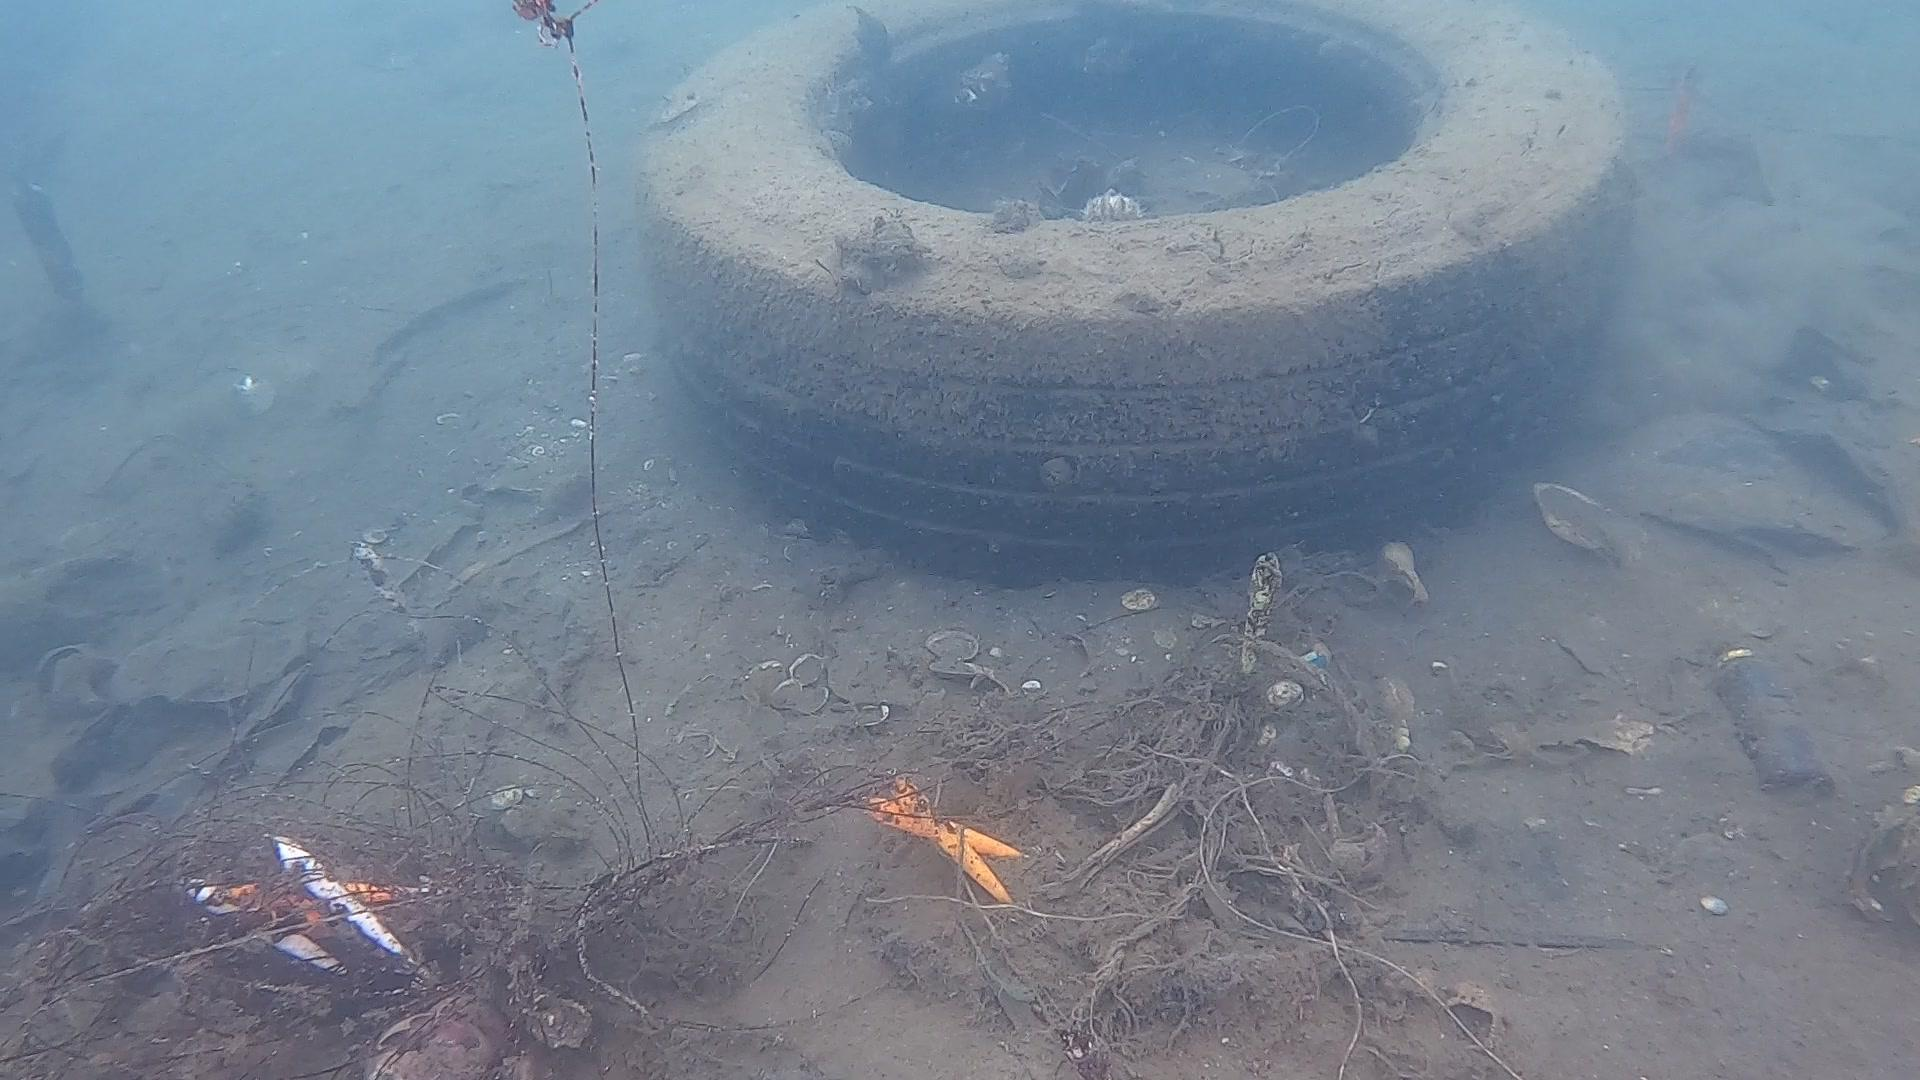tire: (632, 3, 1629, 568)
